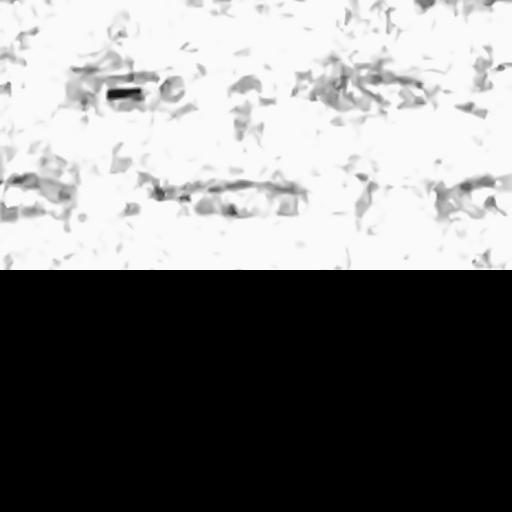egg: (107, 87, 141, 99)
